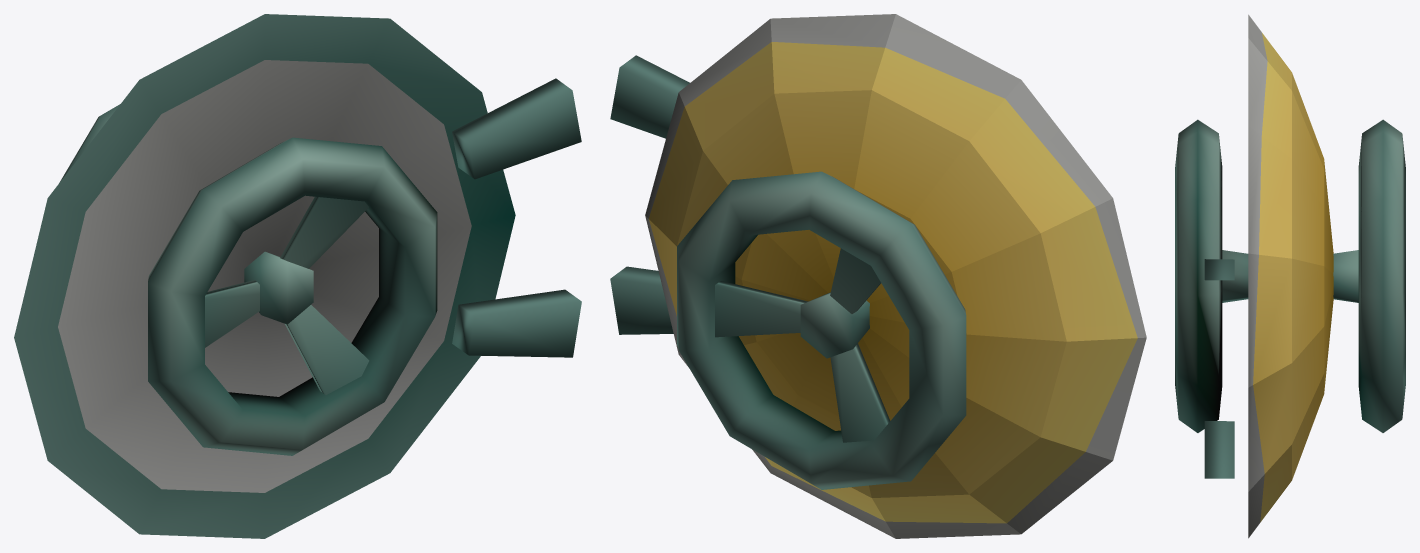
File: SubTubeHatchDoor.glb
3 renders of one model, left to right at view 1: azimuth 30°, elevation 25°; view 2: azimuth 150°, elevation 25°; view 3: azimuth 270°, elevation 25°, orthographic. The views are drawn at different scales.
Visible parts, largest first — view 1: SubTubeHatchDoor; view 2: SubTubeHatchDoor; view 3: SubTubeHatchDoor.
Part boxes in pixels (x1,y1,x2,y2): SubTubeHatchDoor: [14, 14, 581, 538]; SubTubeHatchDoor: [610, 14, 1146, 538]; SubTubeHatchDoor: [1175, 14, 1405, 538].
Size of the model in its own units: 2.42 by 2.23 by 0.9762.
